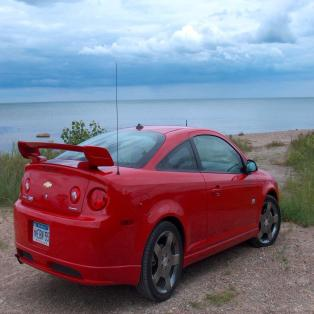Auto: (9, 62, 284, 306)
